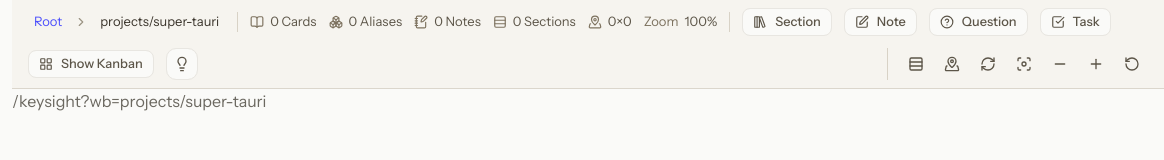
Test: GraphToolbar › 点击 Show Kanban 导航到 /kanban?project={name}
The width and height of the screenshot is (1164, 160).
Click the button "Show Kanban": (91, 64) [28,50,154,78]
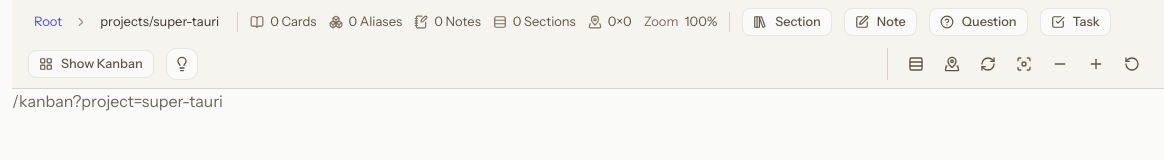
Expected: the text with test id "current-location" reads "/kanban?project=super-tauri", [12,91,223,111]
